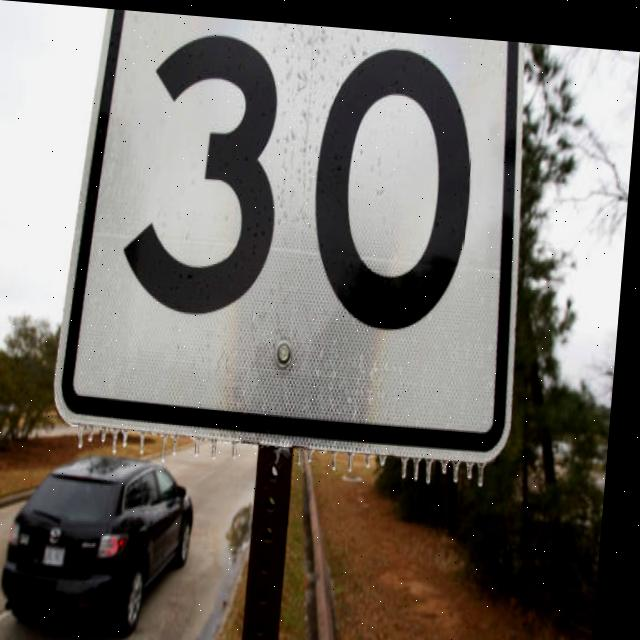Speed limit 30: (56, 8, 544, 463)
